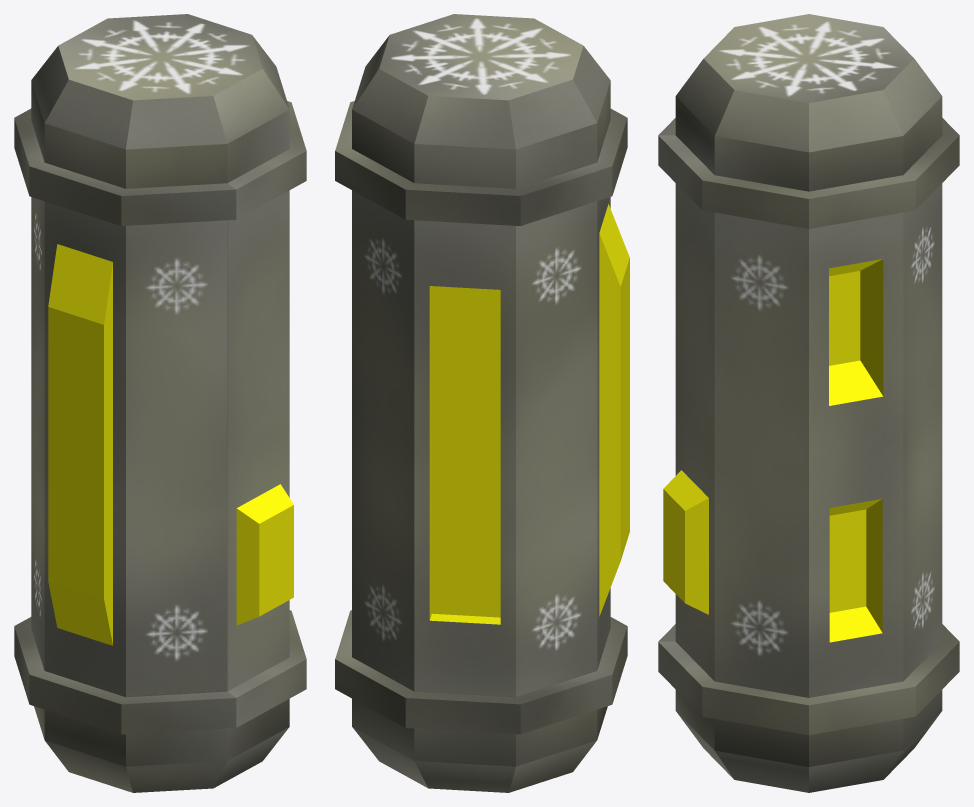
The model's file is battery.fbx.
3 renders of one model, left to right at view 1: azimuth 30°, elevation 25°; view 2: azimuth 150°, elevation 25°; view 3: azimuth 270°, elevation 25°, orthographic.
Visible parts, largest first — view 1: pCylinder1; view 2: pCylinder1; view 3: pCylinder1.
Part boxes in pixels (x1,y1,x2,y2): pCylinder1: (14, 14, 306, 792); pCylinder1: (335, 14, 629, 792); pCylinder1: (658, 14, 959, 792).
Size of the model in its own units: 2.26 by 5.71 by 2.26.
